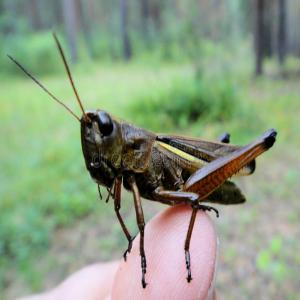locust: (75, 97, 284, 216)
